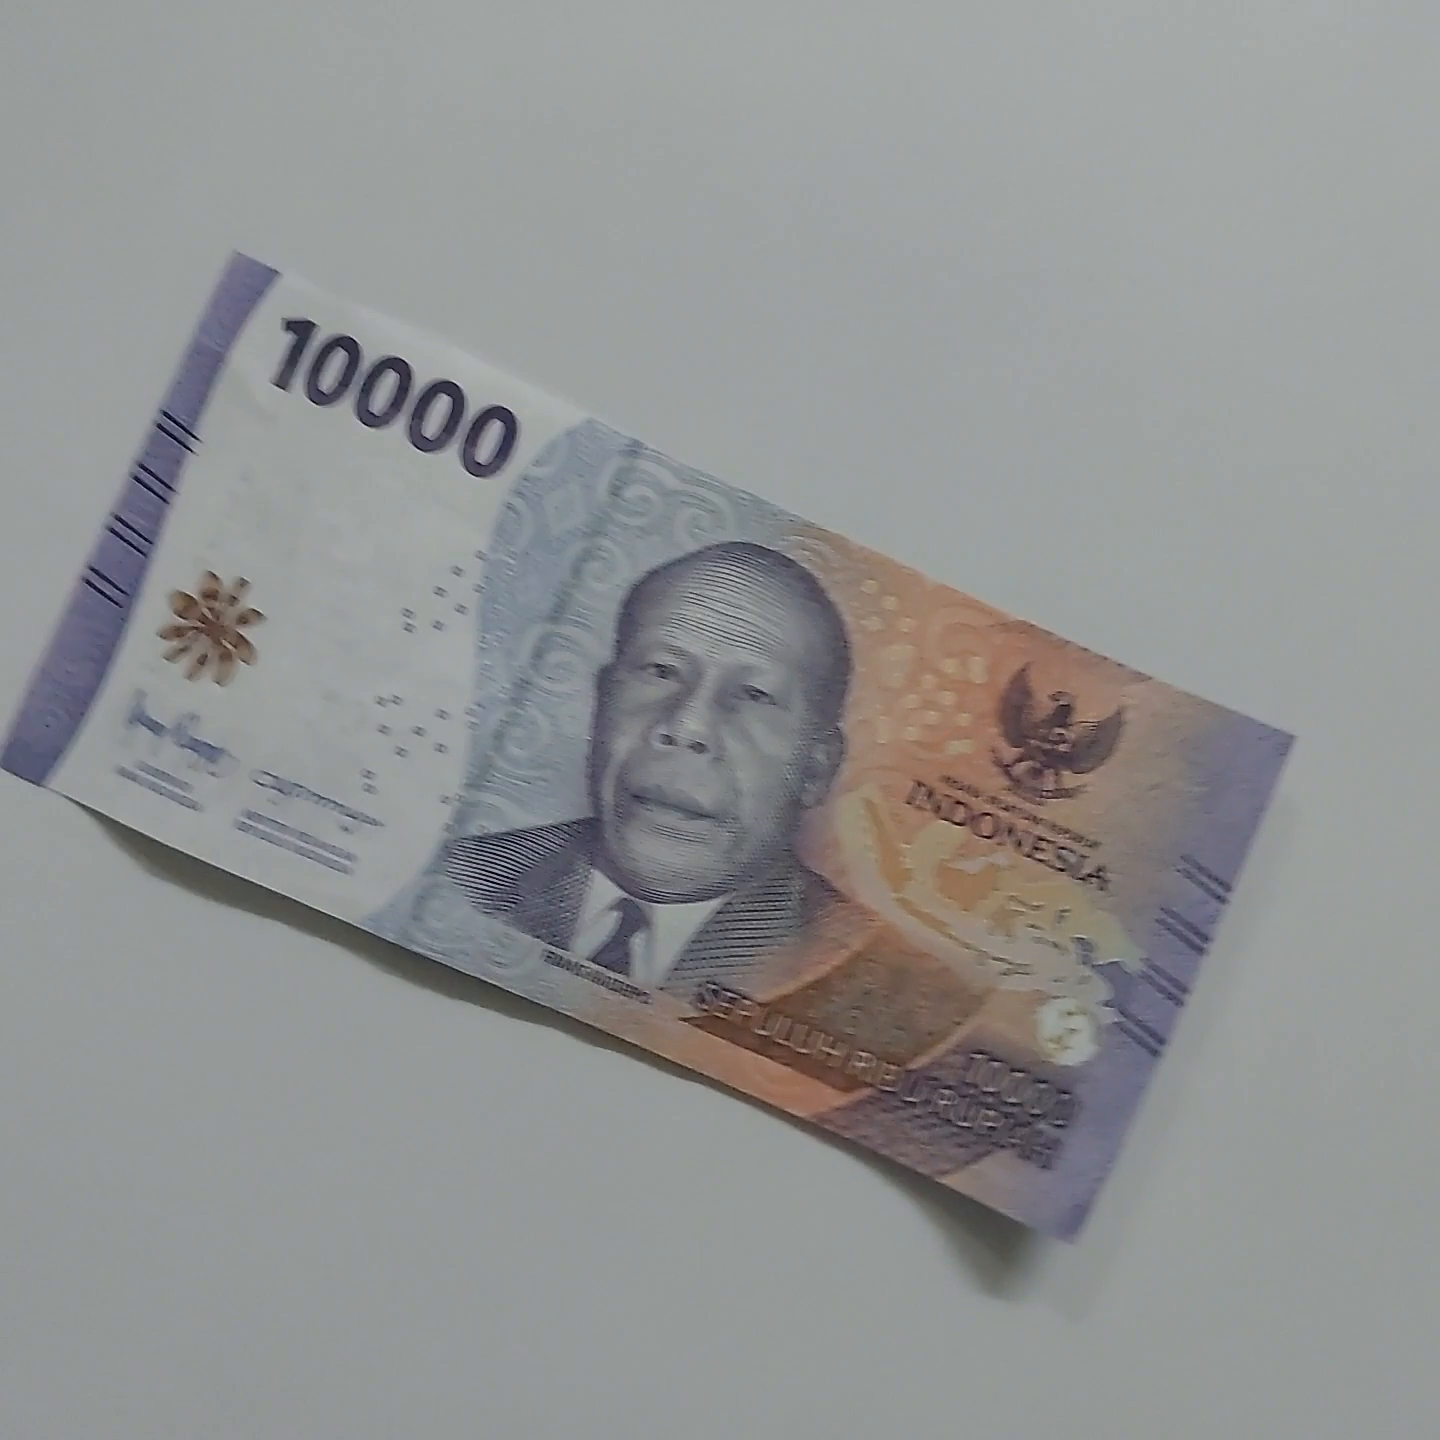10k: (251, 236, 1412, 832)
